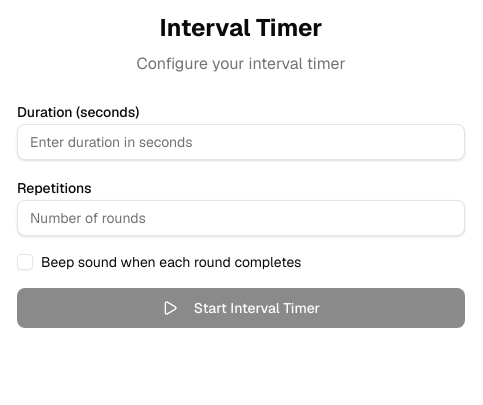
Scenario: RepeatTimer › Input Validation › should display total time when duration and repetitions are entered
The width and height of the screenshot is (483, 405).
Step 1. Type "90" into the number field labelled "Duration (seconds)" → (241, 142), box [17,124,465,160]
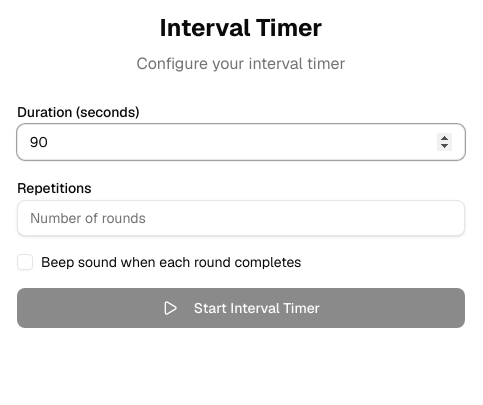
Step 2. Type "3" into the number field labelled "Repetitions" → (241, 218), box [17,200,465,236]
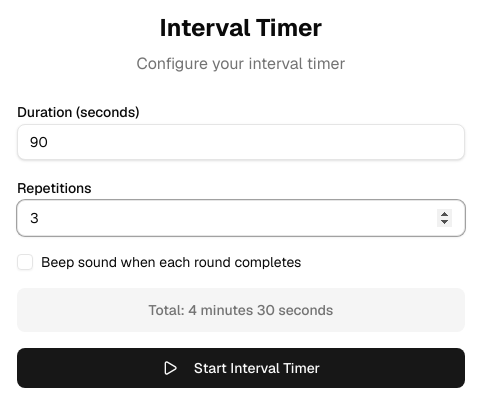
Now the text "Total: 4 minutes 30 seconds" is shown, box [149,301,333,319]
